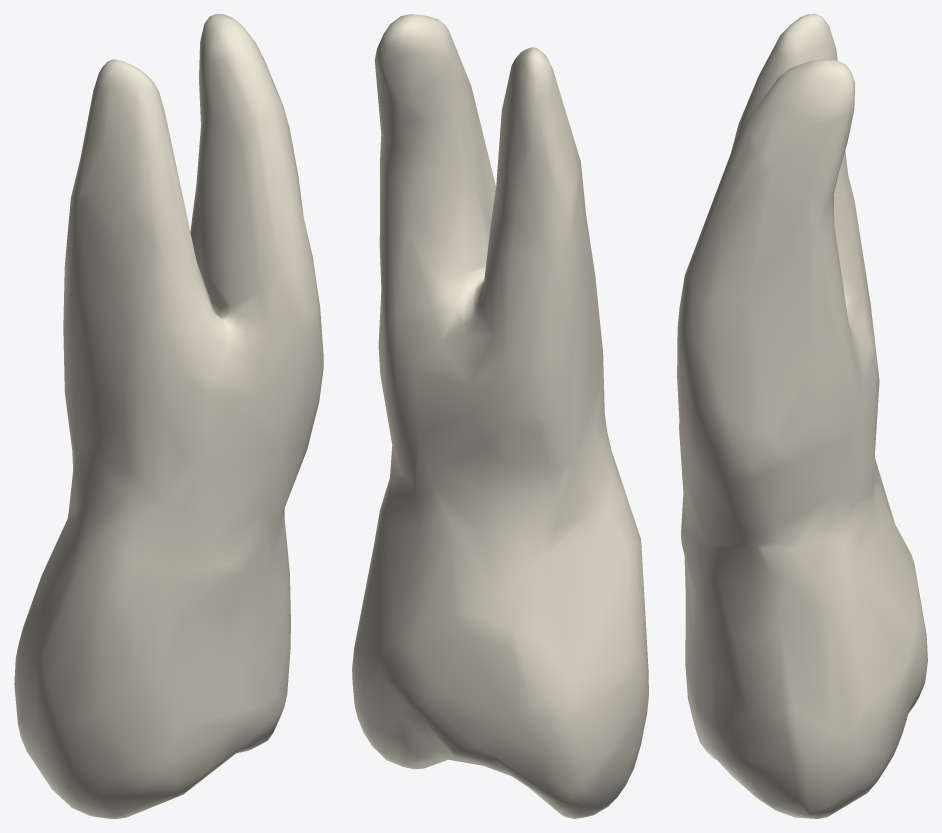
3 renders of one model, left to right at view 1: azimuth 30°, elevation 25°; view 2: azimuth 150°, elevation 25°; view 3: azimuth 270°, elevation 25°, orthographic. The views are drawn at different scales.
Parts seen in each view (by area): view 1: ZA_b8a7cb11b79050a5; view 2: ZA_b8a7cb11b79050a5; view 3: ZA_b8a7cb11b79050a5.
Part boxes in pixels (x1,y1,x2,y2): ZA_b8a7cb11b79050a5: [14, 14, 323, 818]; ZA_b8a7cb11b79050a5: [352, 14, 648, 818]; ZA_b8a7cb11b79050a5: [677, 14, 927, 818].
Bounding box in the file's own units: 0.00909 × 0.0253 × 0.00743.
